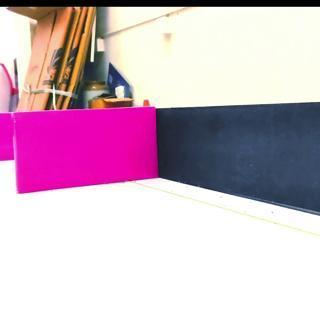xparking: (12, 111, 156, 183)
